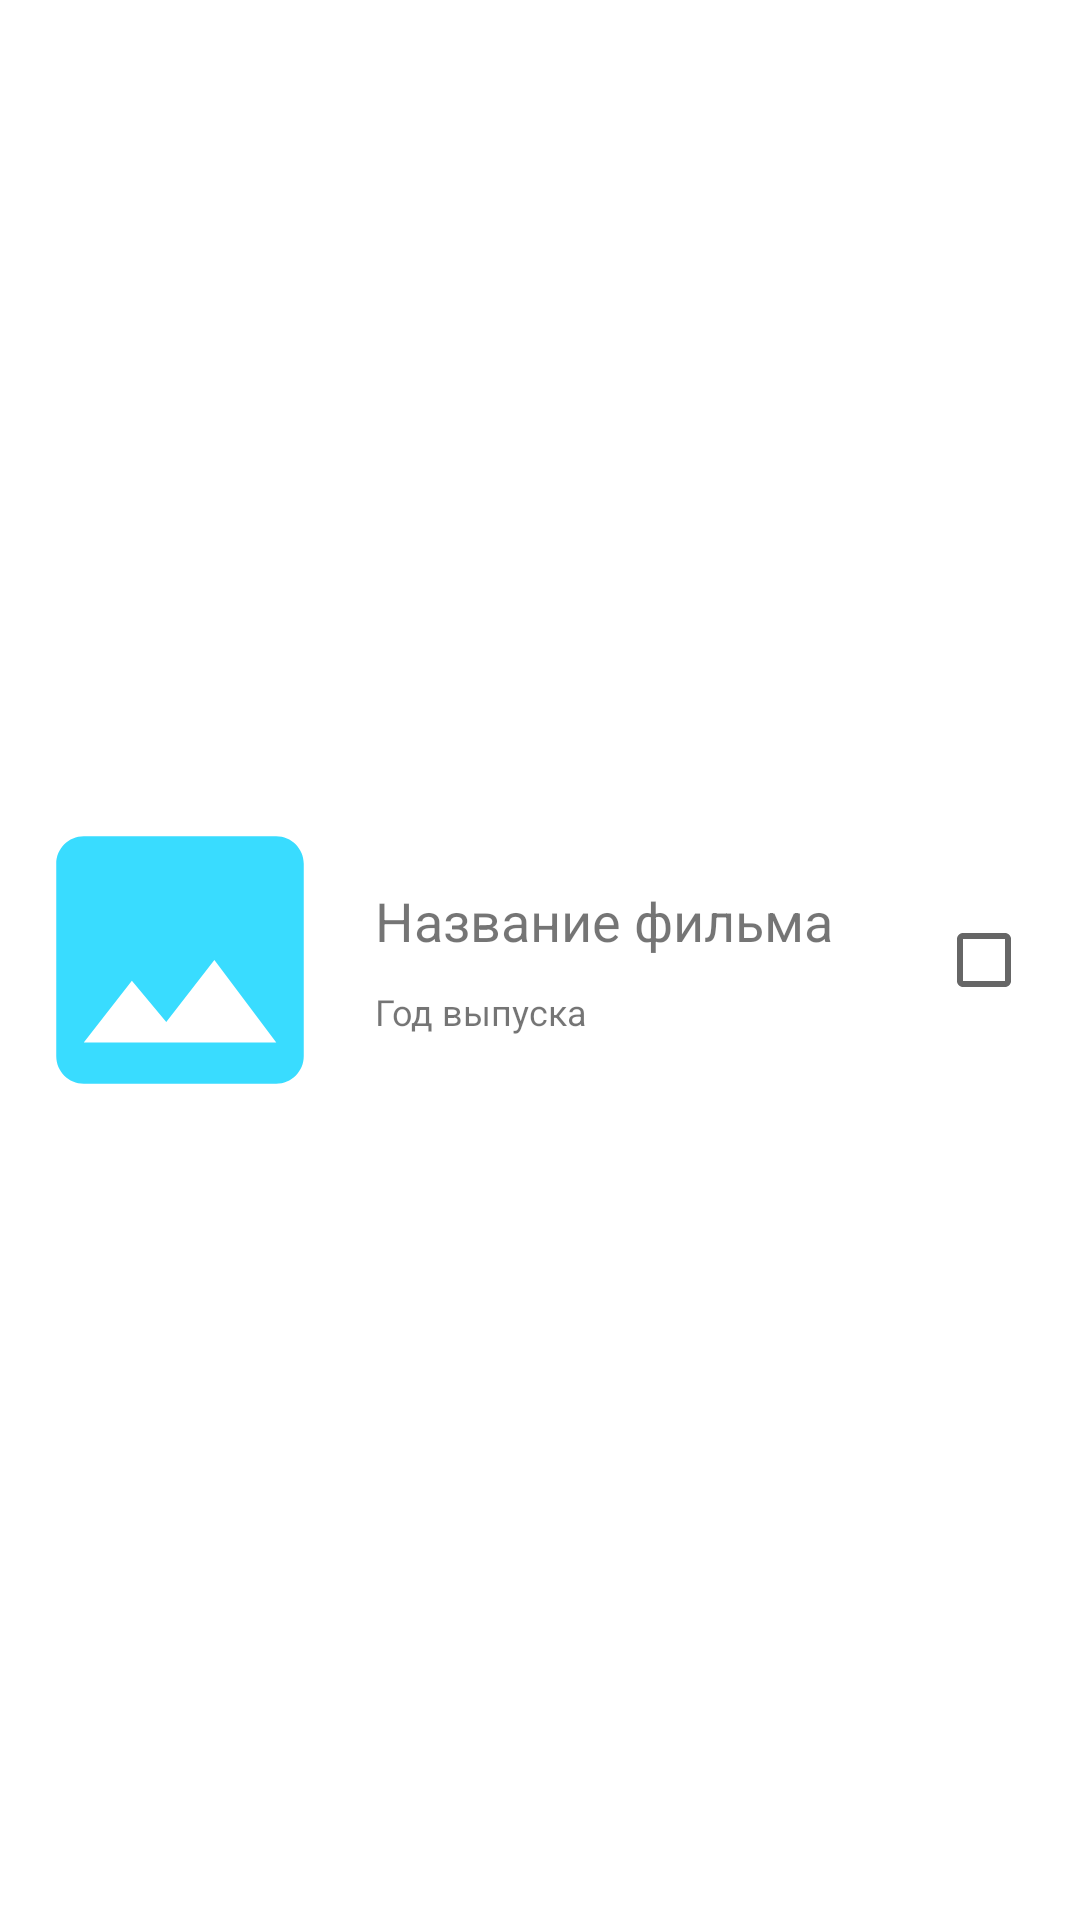

Icon click points for this 1080x1920 phone screenshot, format point (x, y):
Обложка фильма: point (180, 960)
